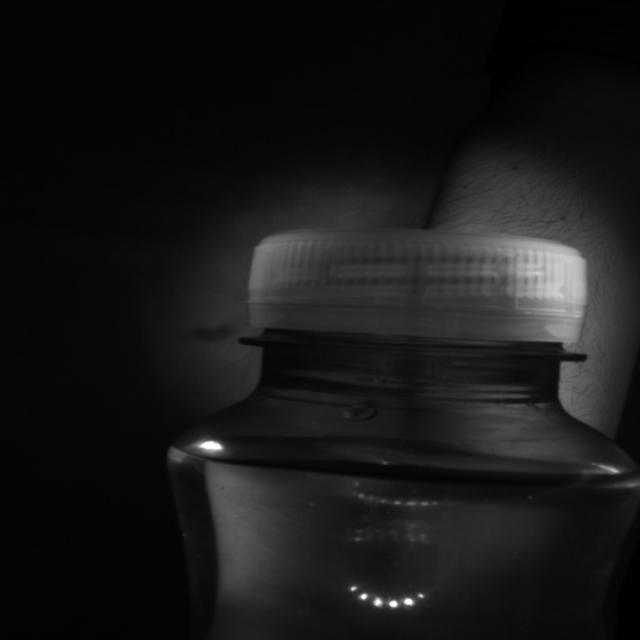Good: (236, 222, 601, 356)
